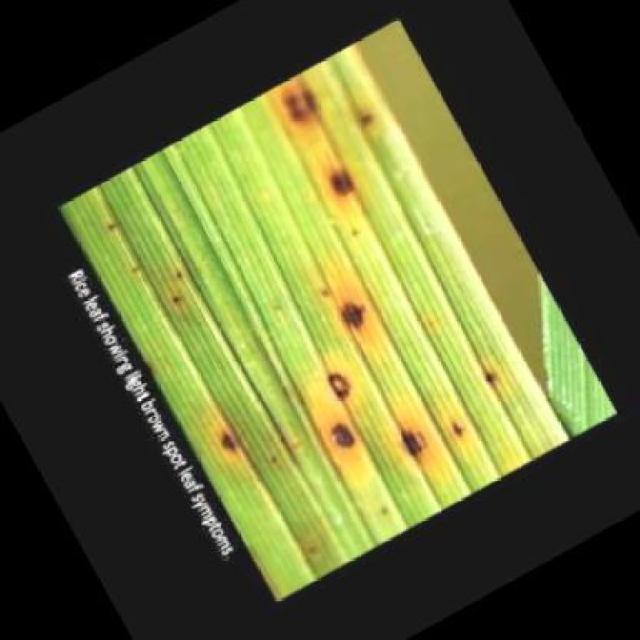Leaf_Blast: (312, 262, 403, 352), (262, 62, 349, 150), (301, 134, 387, 223), (201, 410, 261, 479), (384, 415, 447, 474), (315, 402, 374, 464), (314, 357, 369, 412), (468, 353, 518, 399), (438, 406, 482, 448), (347, 96, 385, 138)
